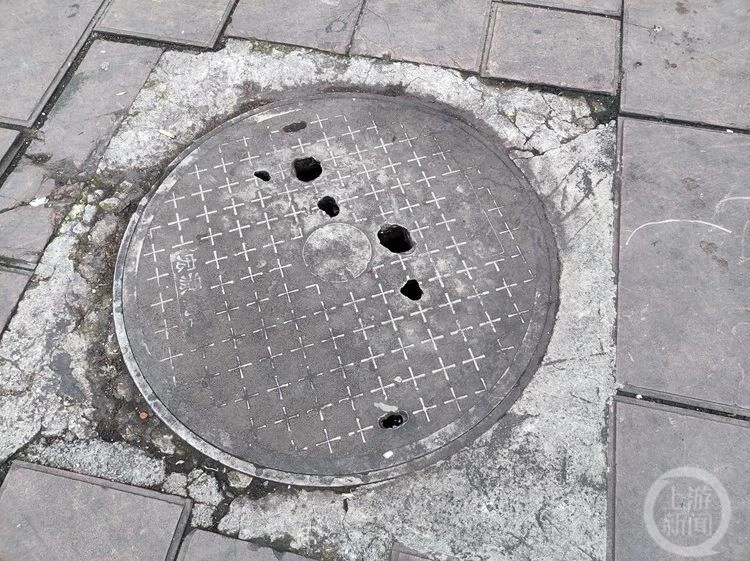circle: (18, 33, 636, 548)
